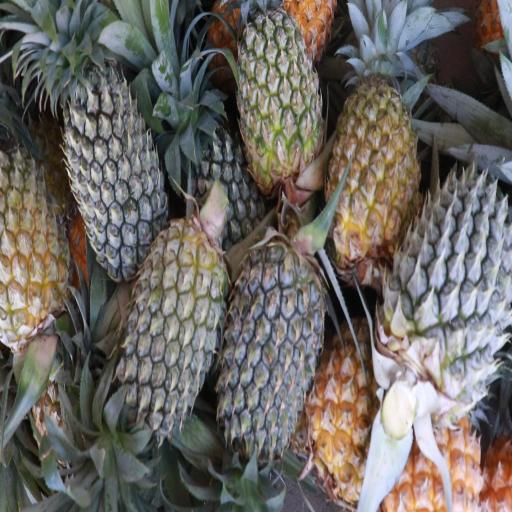------------------------------: (226, 10, 325, 188)
Pineapple - v8 v1: (332, 70, 422, 262), (308, 323, 396, 492), (0, 145, 67, 345), (389, 417, 483, 512)
